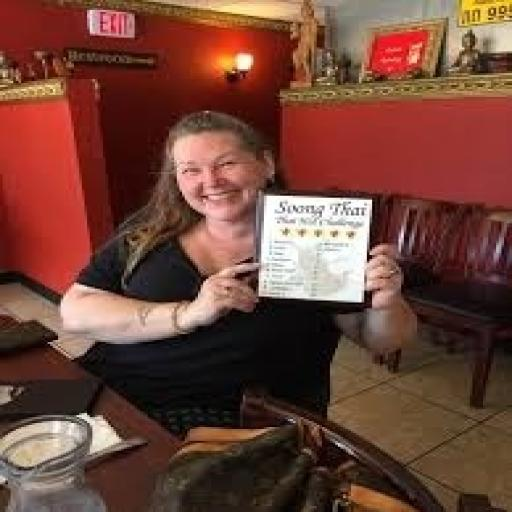sitting: (56, 107, 420, 437)
